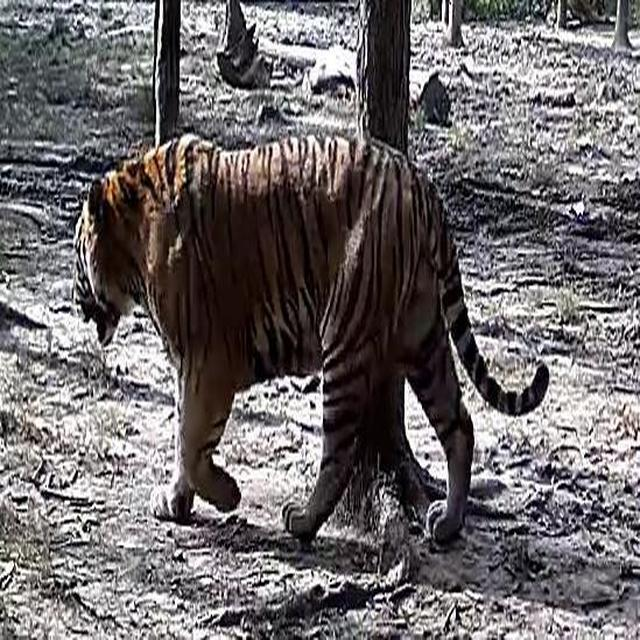tiger: (67, 120, 563, 562)
